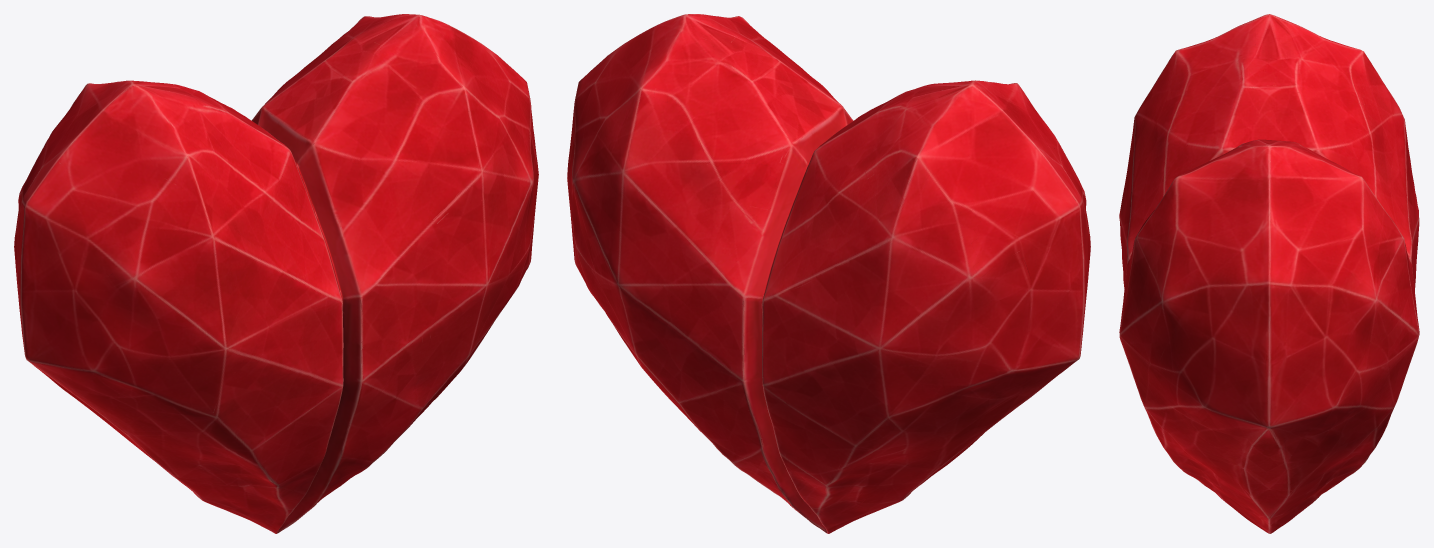
Rendered from bonus_heart_2_HIGH_30k.fbx.
3 renders of one model, left to right at view 1: azimuth 30°, elevation 25°; view 2: azimuth 150°, elevation 25°; view 3: azimuth 270°, elevation 25°, orthographic. The views are drawn at different scales.
Visible parts, largest first — view 1: HIGH; view 2: HIGH; view 3: HIGH.
Part boxes in pixels (x1,y1,x2,y2): HIGH: (14, 14, 538, 533); HIGH: (567, 14, 1090, 533); HIGH: (1119, 14, 1419, 533).
Size of the model in its own units: 1.9 by 1.72 by 1.03.
Materials: 1 (1 with a texture image).
